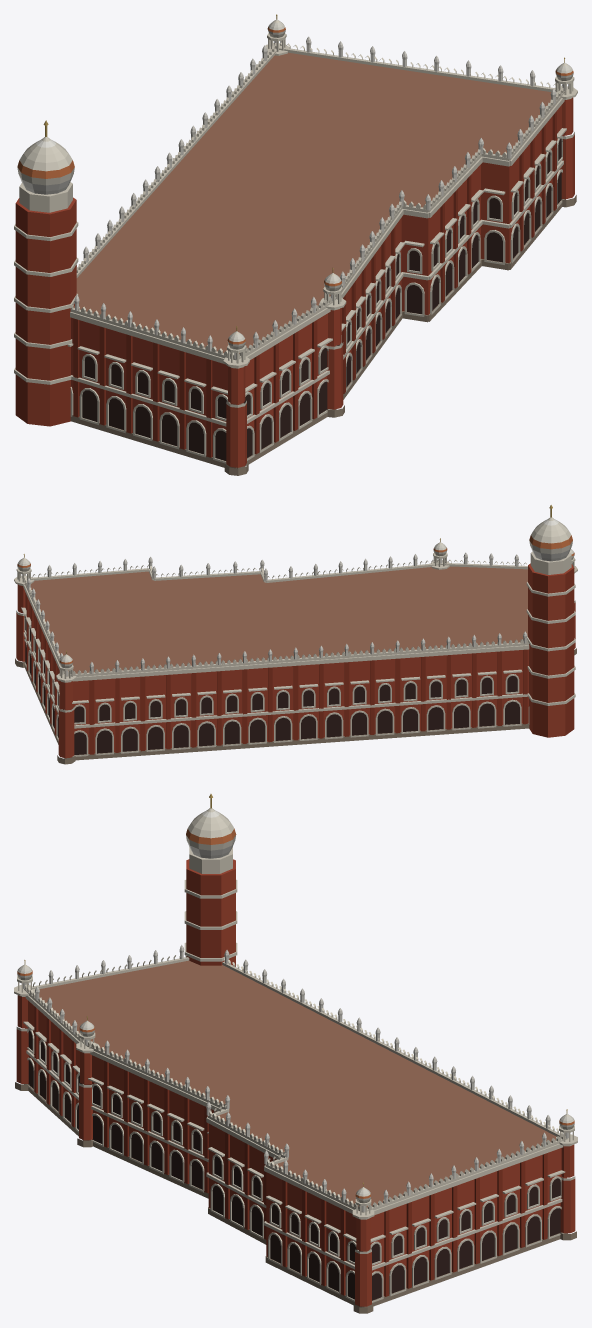
The model's file is agurchand_mansion.glb.
3 views of the same model, one above another, from view 1: azimuth 30°, elevation 25°; view 2: azimuth 150°, elevation 25°; view 3: azimuth 270°, elevation 25° (orthographic). The views are drawn at different scales.
Visible parts, largest first — view 1: agurchand_mansion; view 2: agurchand_mansion; view 3: agurchand_mansion.
Boxes of the visible parts, <box> form: agurchand_mansion: <box>14,14,577,475</box>; agurchand_mansion: <box>14,505,577,764</box>; agurchand_mansion: <box>14,794,577,1313</box>.
Bounding box in the file's own units: 82.33 × 35.98 × 71.47.
